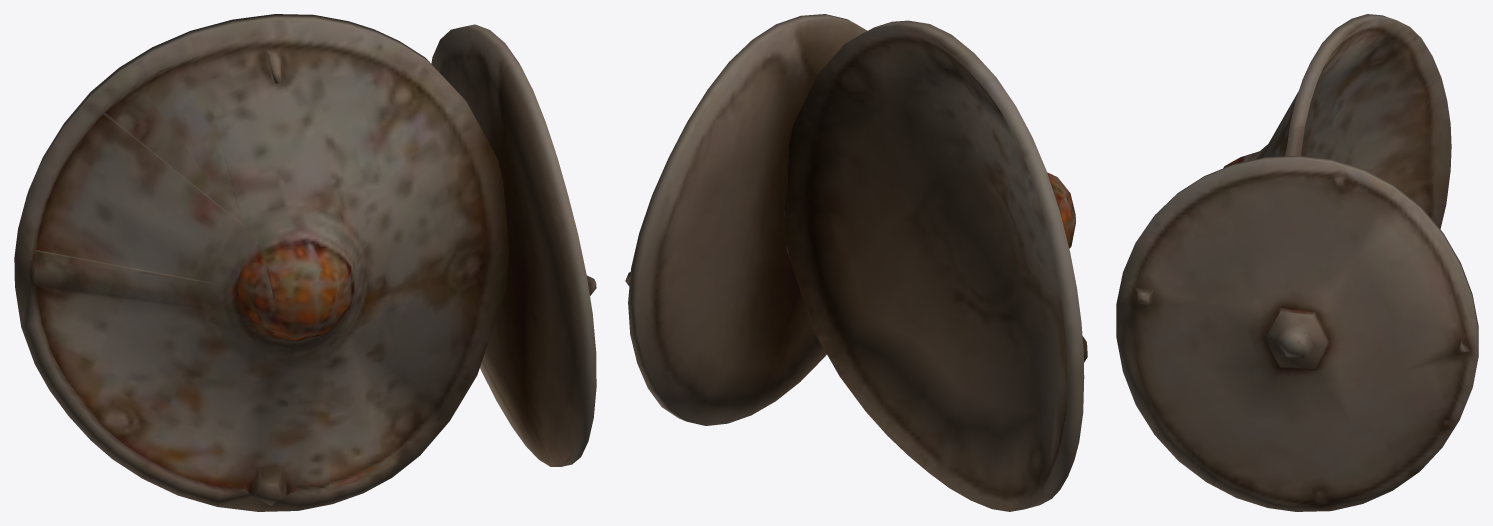
Rendered from g_shield_clan.fbx.
The picture shows the model from 3 angles, left to right: view 1: azimuth 30°, elevation 25°; view 2: azimuth 150°, elevation 25°; view 3: azimuth 270°, elevation 25°; orthographic projection. The views are drawn at different scales.
Visible parts, largest first — view 1: tripo_node_bda288e0-20b3-4bfe-ad0e-2ef2b10f4140; view 2: tripo_node_bda288e0-20b3-4bfe-ad0e-2ef2b10f4140; view 3: tripo_node_bda288e0-20b3-4bfe-ad0e-2ef2b10f4140.
Boxes of the visible parts, bbox=[...] form: tripo_node_bda288e0-20b3-4bfe-ad0e-2ef2b10f4140: bbox=[14, 14, 596, 511]; tripo_node_bda288e0-20b3-4bfe-ad0e-2ef2b10f4140: bbox=[625, 14, 1087, 511]; tripo_node_bda288e0-20b3-4bfe-ad0e-2ef2b10f4140: bbox=[1116, 14, 1478, 511].
Bounding box in the file's own units: 0.8433 × 0.84 × 0.6921.
1 material, 1 textured.
